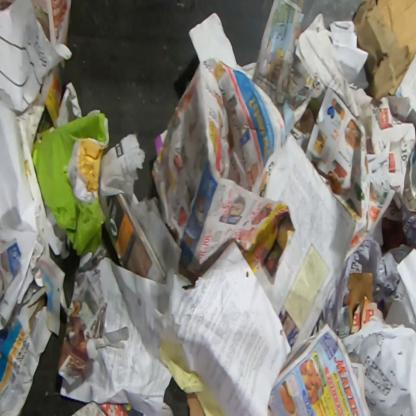cardboard: (36, 112, 110, 258), (352, 0, 415, 106), (343, 272, 373, 334), (32, 113, 52, 168), (400, 200, 415, 250), (186, 391, 206, 416)
